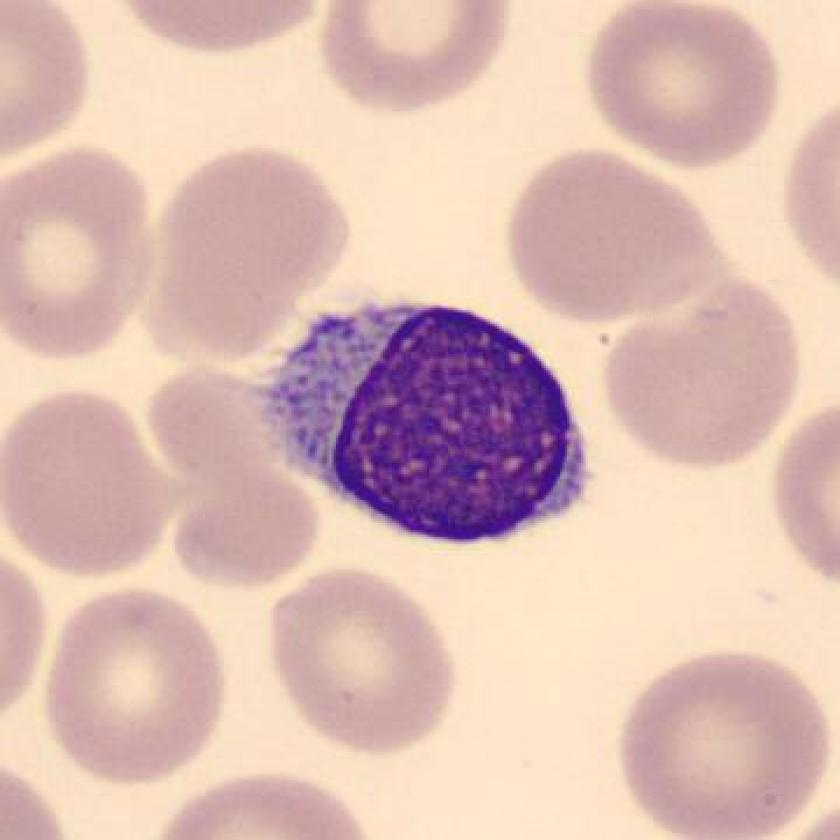lymphocyte: (258, 277, 601, 564)
